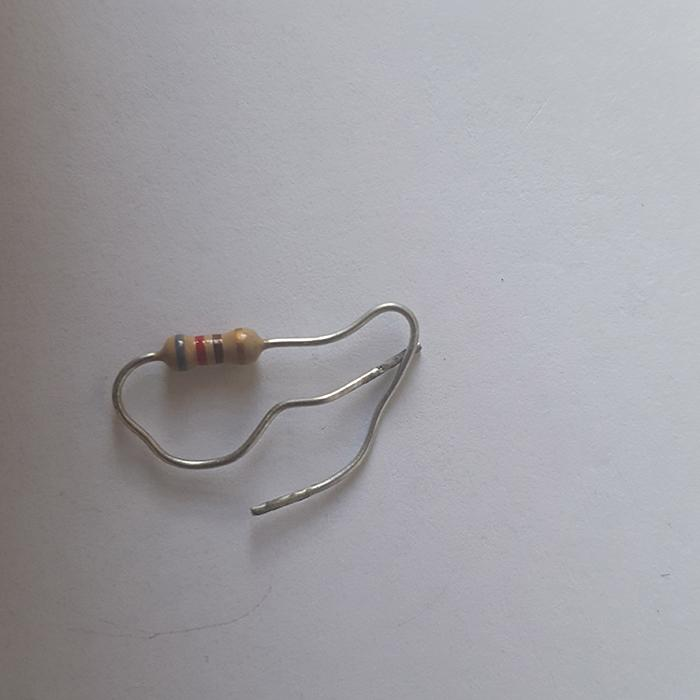resistor: (160, 327, 266, 371)
